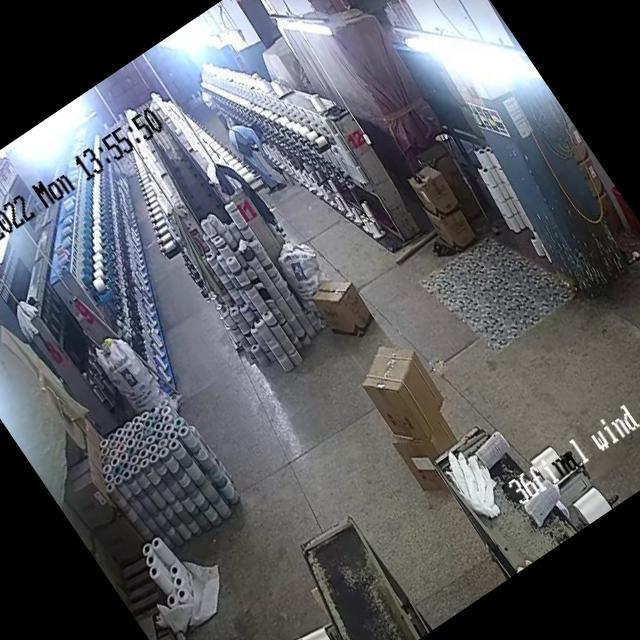person: (224, 112, 294, 197)
